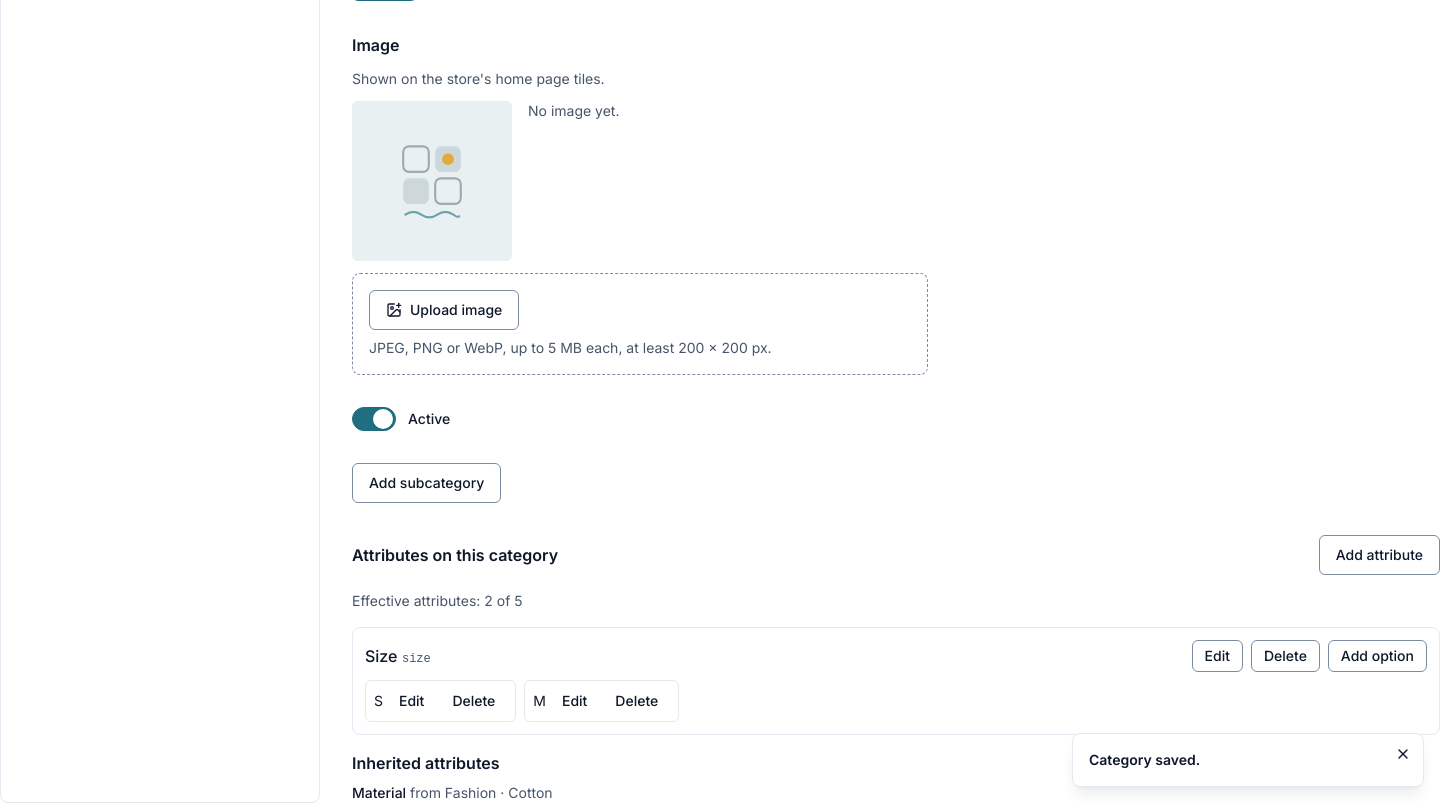
Test: category panel (spec 03 AD-07) › deactivate: asked first; CATEGORY_IN_USE explained
(page scrolled)
Click the switch named "Active" at (374, 419), box [352,407,396,431]
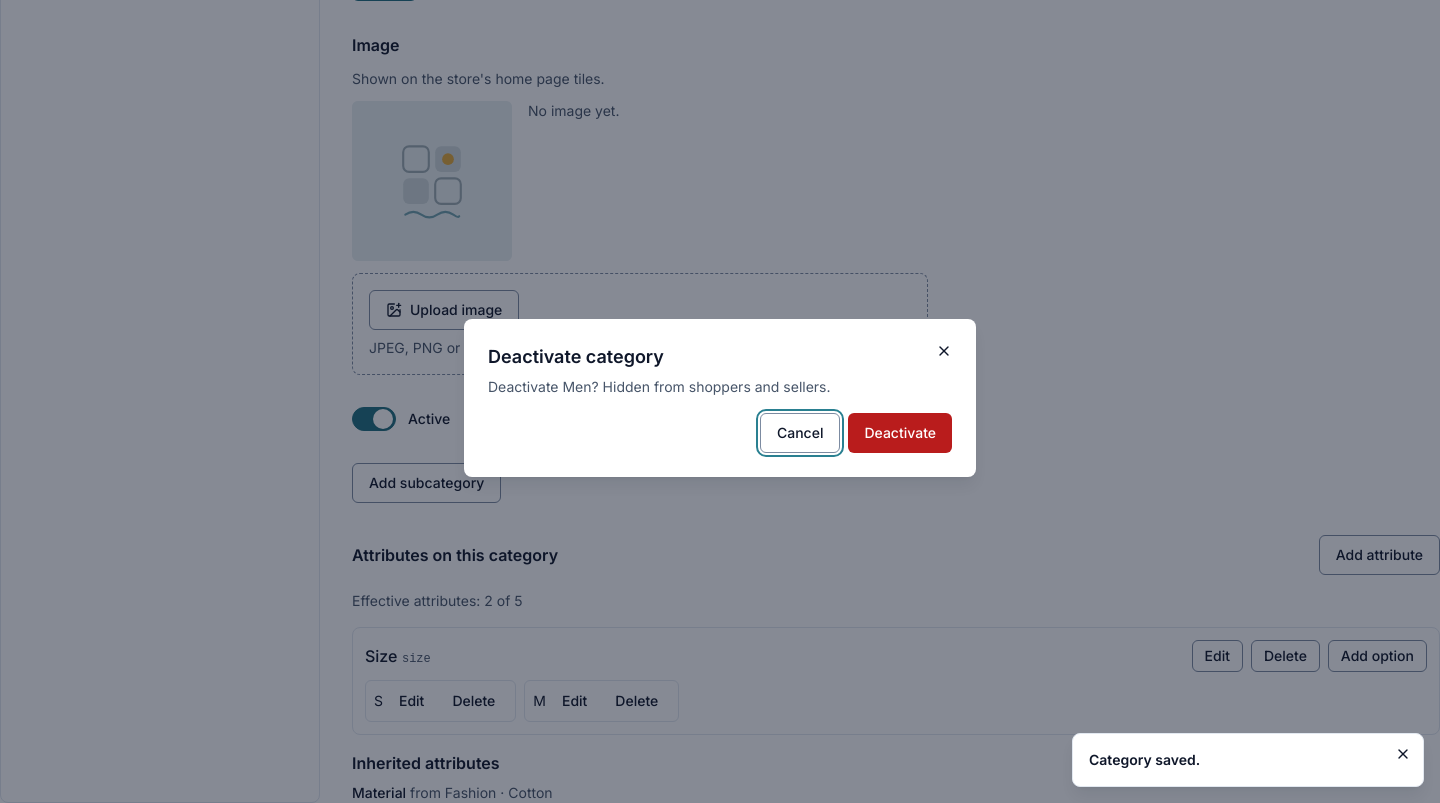
Now the text "Deactivate Men? Hidden from shoppers and sellers." is shown, box [488,378,830,395]
Click the button "Deactivate" at (900, 433), box [848,413,952,453]
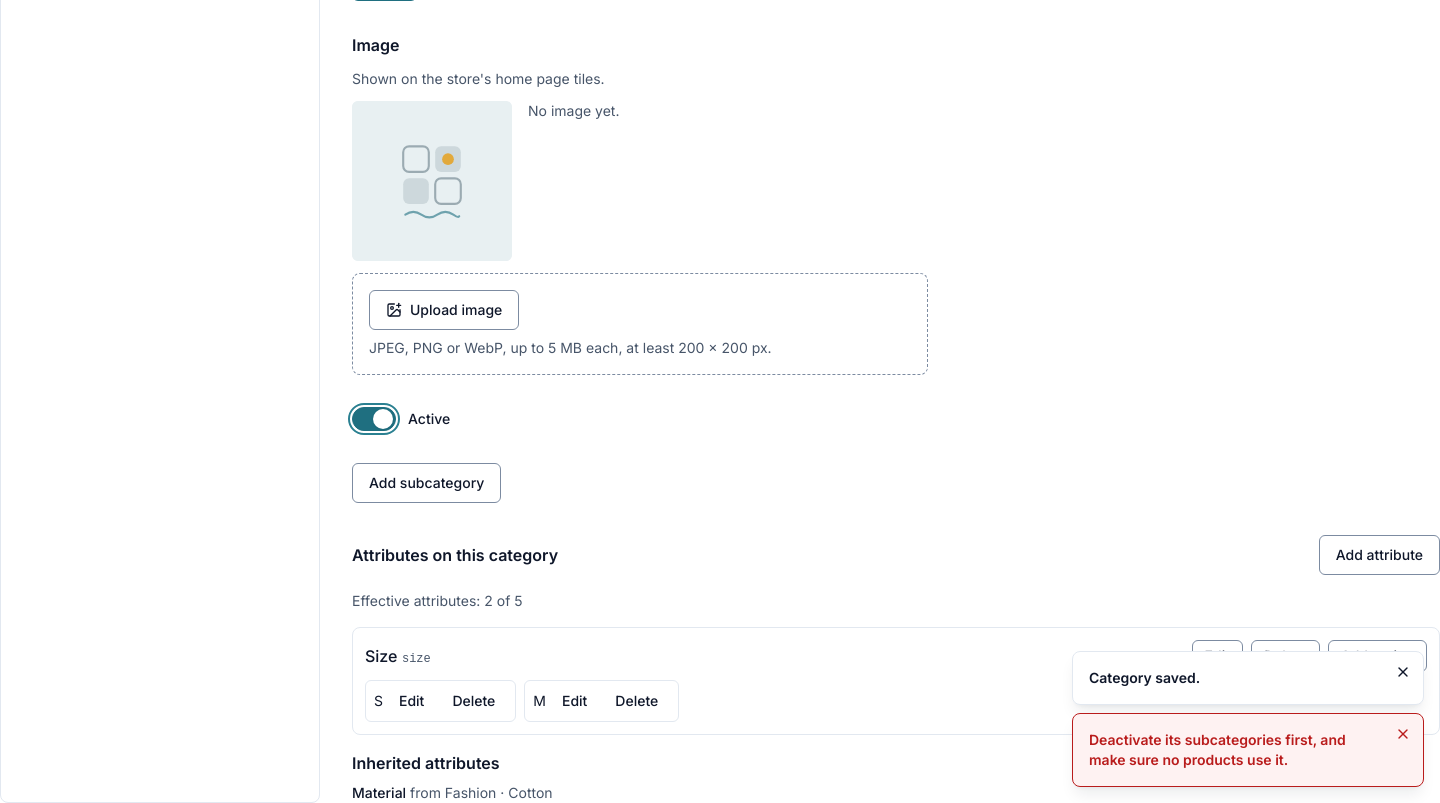
Now the text "Deactivate its subcategories first, and make sure no products use it." is shown, box [1089,730,1383,770]
